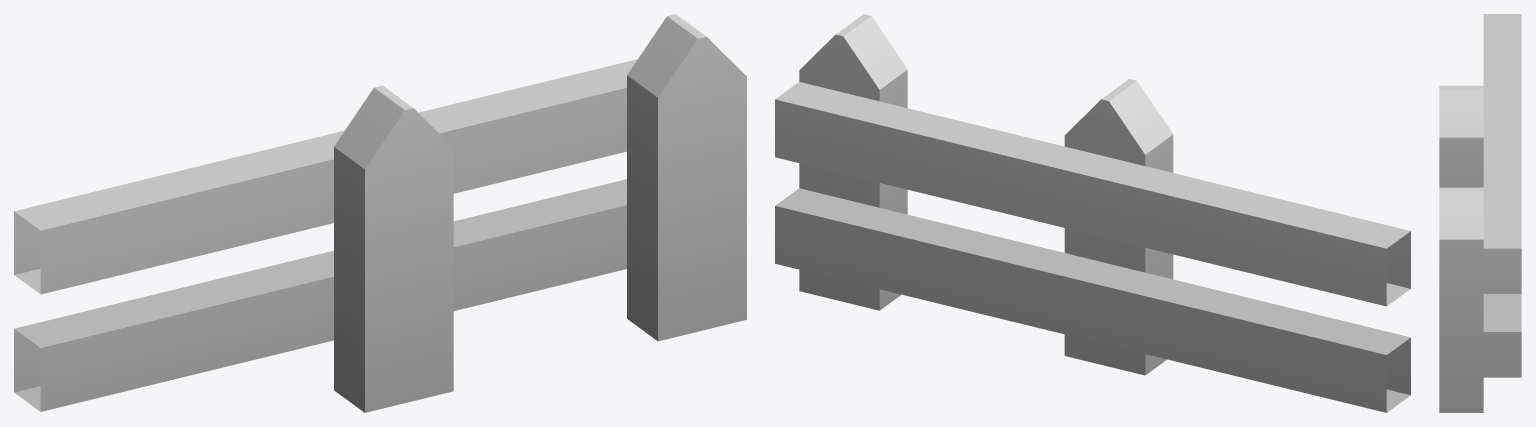
Rendered from village fence right.fbx.
3 views of the same model, side by side, from view 1: azimuth 30°, elevation 25°; view 2: azimuth 150°, elevation 25°; view 3: azimuth 270°, elevation 25° (orthographic). The views are drawn at different scales.
Parts seen in each view (by area): view 1: village fence right; view 2: village fence right; view 3: village fence right.
Part boxes in pixels (<box>): village fence right: <box>14,14,746,412</box>; village fence right: <box>775,14,1410,412</box>; village fence right: <box>1439,14,1521,412</box>.
Bounding box in the file's own units: 340 × 141 × 50.36.
